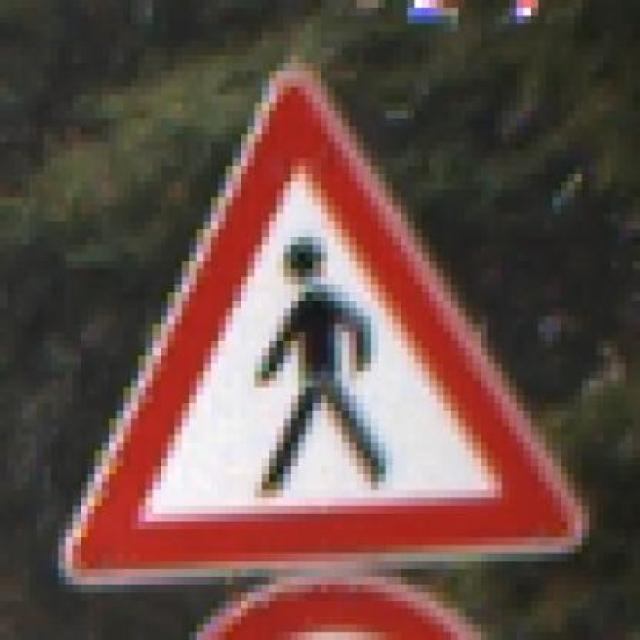Pedestrian Crossing: (43, 56, 597, 584)
